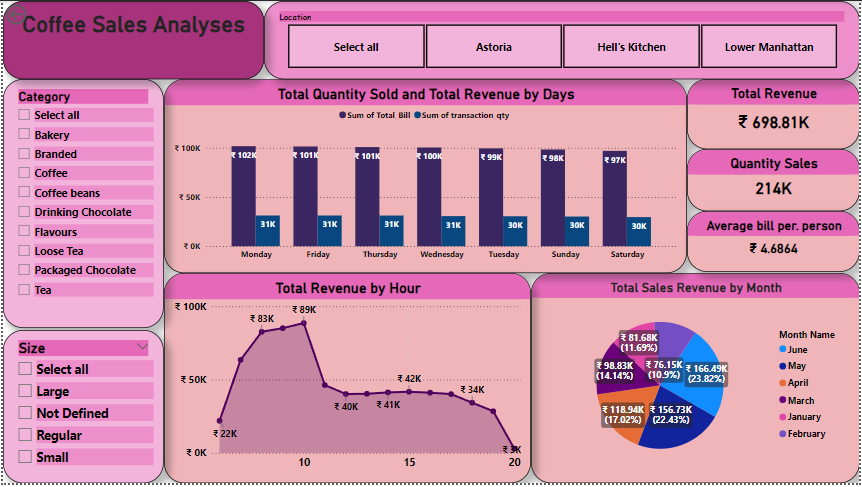

Layout of this report page (visuals, bound fields, positions):
{"tool":"powerbi","page":{"name":"Page 1","canvas":[1280,720],"ordinal":0},"visuals":[{"type":"pieChart","title":"Total Sales Revenue by Month","fields":{"Category":["Transactions.Month Name"],"Y":["Sum(Transactions.Total_Bill)"]},"box":[788.7,406.3,491.5,313.7],"z":0},{"type":"clusteredColumnChart","title":"Total Quantity Sold and Total Revenue  by Days","fields":{"Category":["Transactions.Days"],"Y":["Sum(Transactions.Total_Bill)","Sum(Transactions.transaction_qty)"]},"box":[240.5,116.5,781.2,289.8],"z":1000},{"type":"lineChart","title":"Total Revenue by Hour","fields":{"Y":["Sum(Transactions.Total_Bill)"],"Category":["Transactions.Hour"]},"box":[240.5,406.3,548.2,313.7],"z":2000},{"type":"card","title":"Total Revenue","fields":{"Values":["Sum(Transactions.Total_Bill)"]},"box":[1021.7,116.5,258.4,94.1],"z":3000},{"type":"slicer","fields":{"Values":["Transactions.product_category"]},"box":[0,116.5,240.5,372],"z":4000},{"type":"slicer","fields":{"Values":["Transactions.store_location"]},"box":[389.9,0,890.3,116.5],"z":5000},{"type":"card","title":"Quantity Sales","fields":{"Values":["Sum(Transactions.transaction_qty)"]},"box":[1021.7,210.6,258.4,92.6],"z":6000},{"type":"textbox","box":[0,0,389.9,116.5],"z":8000},{"type":"slicer","fields":{"Values":["Transactions.Size"]},"box":[0,491.5,240.5,228.5],"z":9000},{"type":"card","title":"Average bill per. person","fields":{"Values":["Avg(Transactions.Total_Bill)"]},"box":[1021.7,303.2,258.4,101.6],"z":9001},{"type":"actionButton","box":[0,0,100,40],"z":9002}]}

Visuals, with their boxes in screenshot pixels (x1, y1, x2, y2), scaled from the page's 1280x720 canvas onto the 862x487 screenshot:
"Total Sales Revenue by Month" pieChart: l=531, t=275, r=861, b=486
"Total Quantity Sold and Total Revenue  by Days" clusteredColumnChart: l=162, t=79, r=688, b=275
"Total Revenue by Hour" lineChart: l=162, t=275, r=531, b=486
"Total Revenue" card: l=688, t=79, r=861, b=142
slicer - Transactions.product_category: l=0, t=79, r=162, b=330
slicer - Transactions.store_location: l=263, t=0, r=861, b=79
"Quantity Sales" card: l=688, t=142, r=861, b=205
textbox: l=0, t=0, r=263, b=79
slicer - Transactions.Size: l=0, t=332, r=162, b=486
"Average bill per. person" card: l=688, t=205, r=861, b=274
actionButton: l=0, t=0, r=67, b=27
